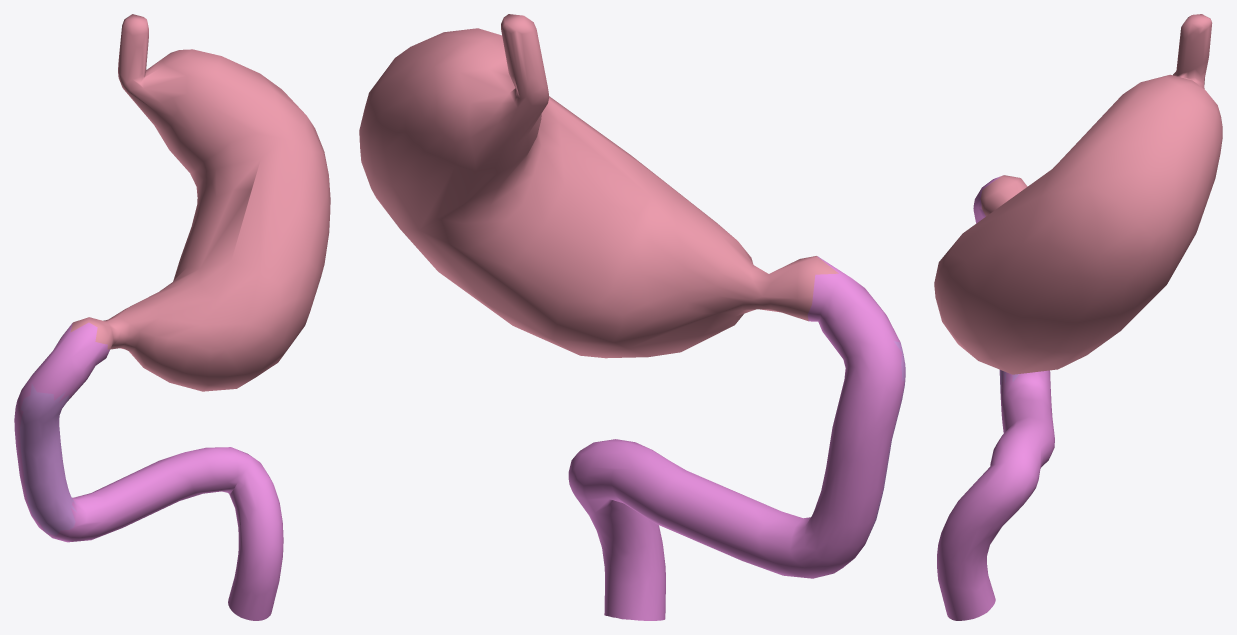
Rendered from Stomach.fbx.
3 renders of one model, left to right at view 1: azimuth 30°, elevation 25°; view 2: azimuth 150°, elevation 25°; view 3: azimuth 270°, elevation 25°, orthographic. The views are drawn at different scales.
Parts seen in each view (by area): view 1: SEROZA.000_Cylinder.001; view 2: SEROZA.000_Cylinder.001; view 3: SEROZA.000_Cylinder.001.
Part boxes in pixels (bbox=[...]): SEROZA.000_Cylinder.001: bbox=[14, 14, 330, 620]; SEROZA.000_Cylinder.001: bbox=[359, 14, 905, 620]; SEROZA.000_Cylinder.001: bbox=[934, 14, 1222, 620].
Bounding box in the file's own units: 1753 × 2574 × 1140.
